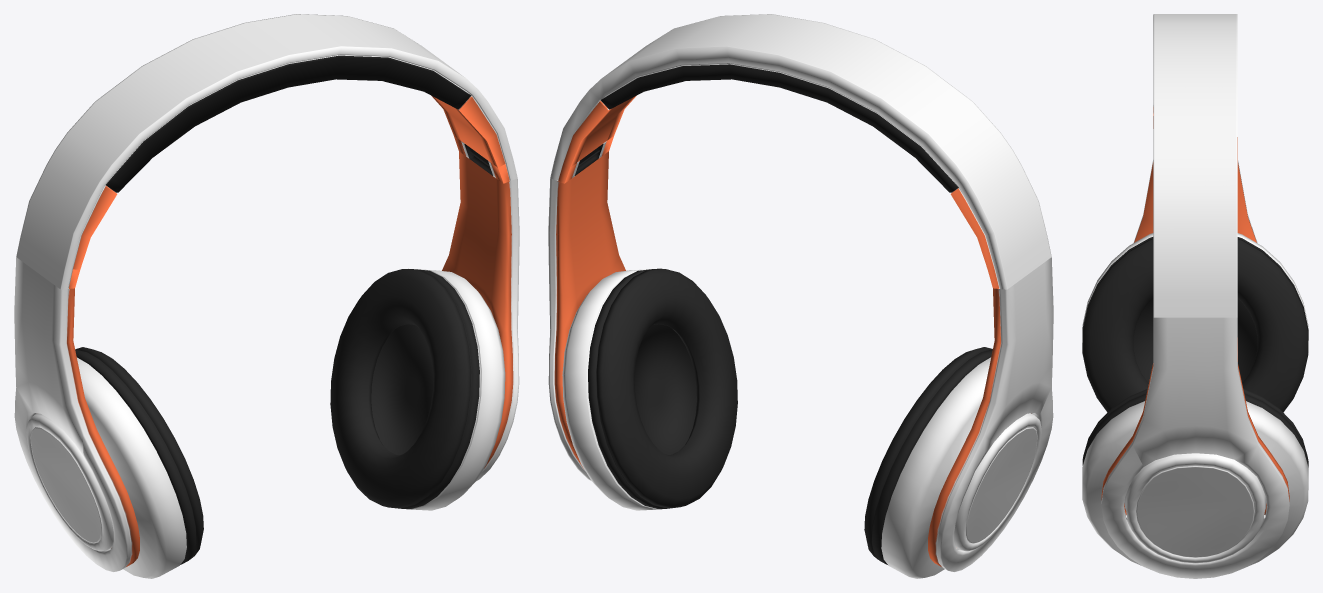
The model's file is Headphone_000.fbx.
3 views of the same model, side by side, from view 1: azimuth 30°, elevation 25°; view 2: azimuth 150°, elevation 25°; view 3: azimuth 270°, elevation 25° (orthographic). The views are drawn at different scales.
Parts seen in each view (by area): view 1: Headphone; view 2: Headphone; view 3: Headphone.
Boxes of the visible parts, left/top/right/bottom form: Headphone: left=14, top=14, right=519, bottom=578; Headphone: left=548, top=14, right=1053, bottom=578; Headphone: left=1082, top=14, right=1308, bottom=578.
Size of the model in its own units: 160 by 165 by 72.24.
1 material, 1 textured.
